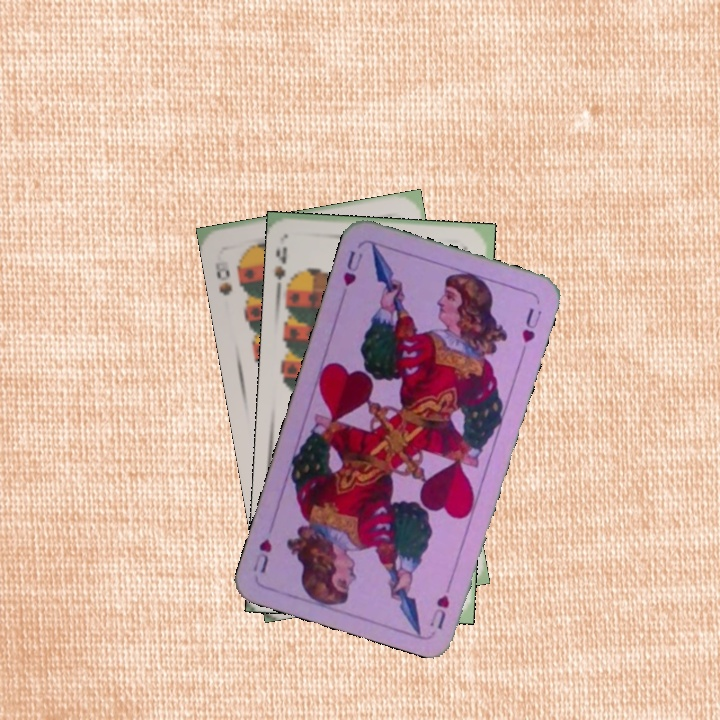HU: (425, 575, 456, 632), (339, 246, 365, 290)
S8: (212, 265, 235, 298)
S9: (271, 242, 298, 297)
